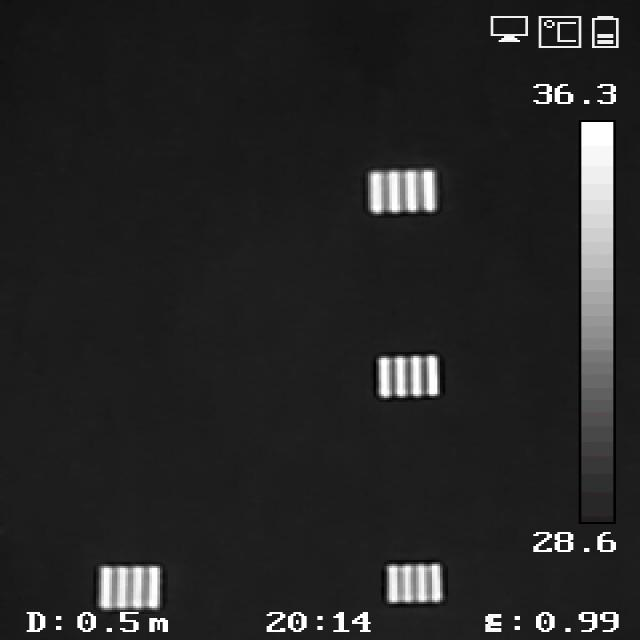Distinguishable 4-bar target: (368, 168, 440, 213), (376, 354, 439, 399), (100, 567, 164, 609), (387, 566, 444, 603)
